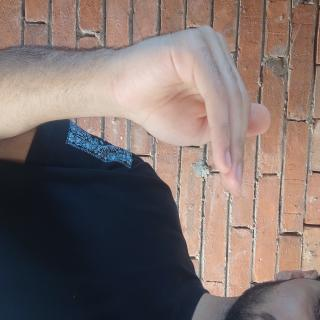KHAA: (15, 57, 146, 288)
